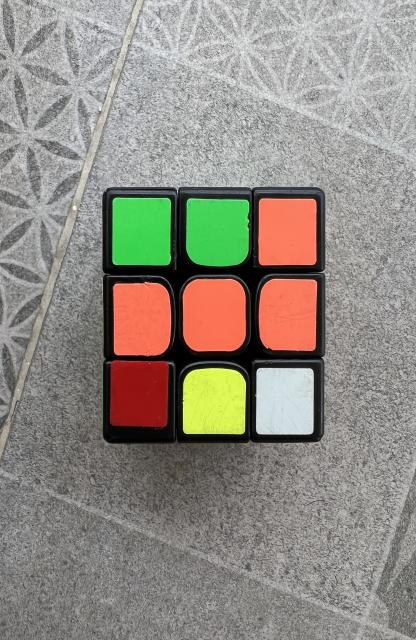Green: (186, 199, 249, 266), (112, 198, 171, 265)
Orange: (183, 279, 246, 351), (113, 282, 171, 356), (259, 279, 317, 351), (258, 199, 316, 265)
Red: (109, 361, 169, 428)
White: (256, 368, 314, 435)
Yellow: (182, 368, 246, 434)
